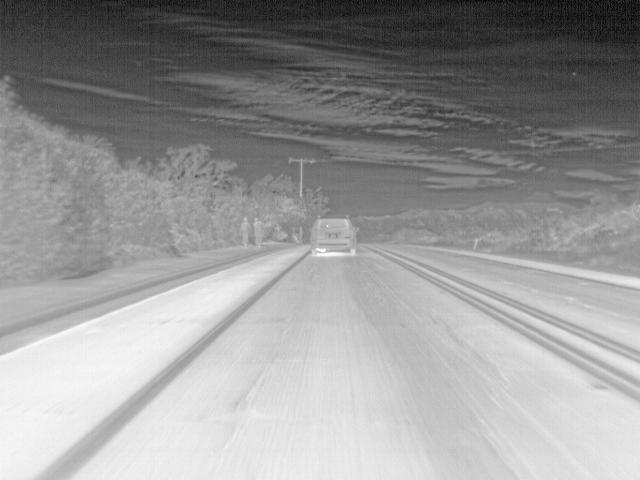car: (307, 214, 357, 255)
person: (251, 216, 266, 250), (239, 215, 252, 249)
